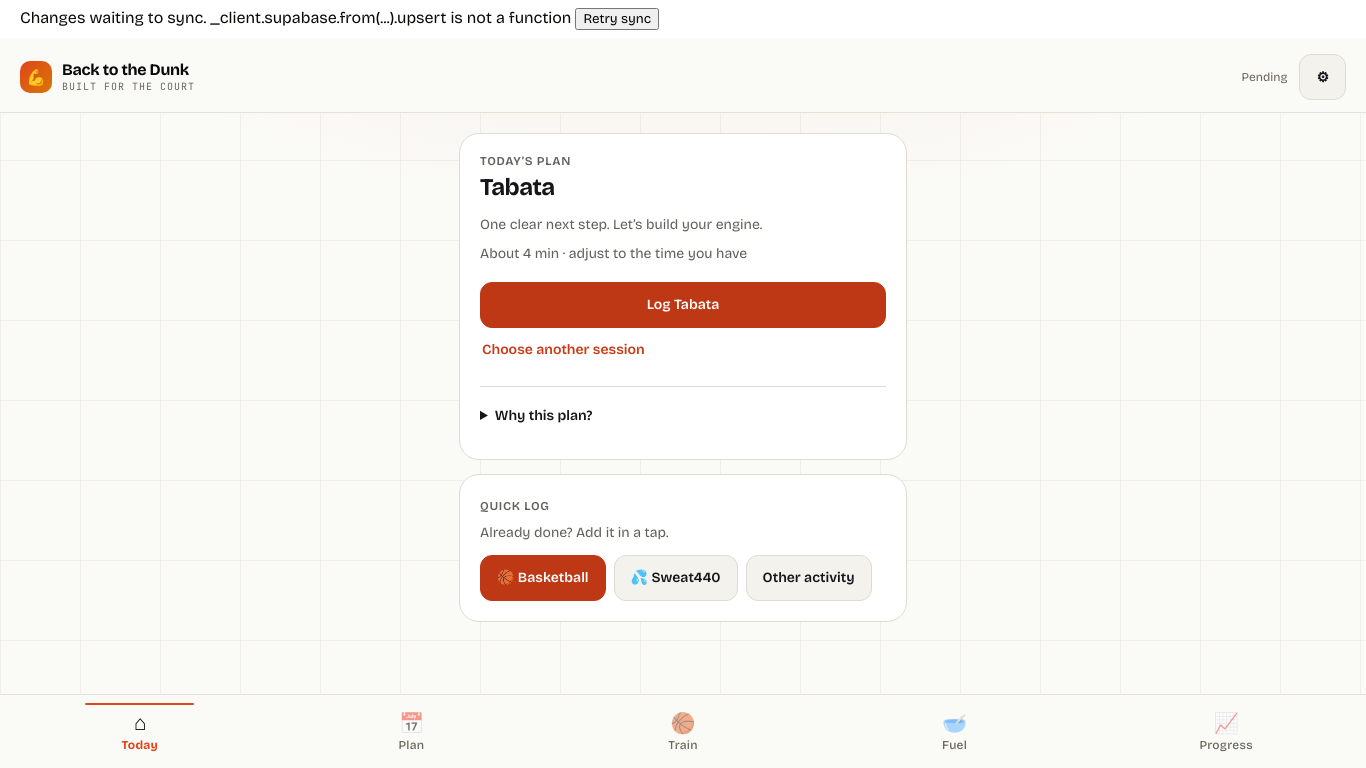
a failed delete keeps the weight entry visible and displays the error
This screenshot has width=1366, height=768.
Click the button "📈 Progress" at (1226, 732), box [1090,703,1362,760]
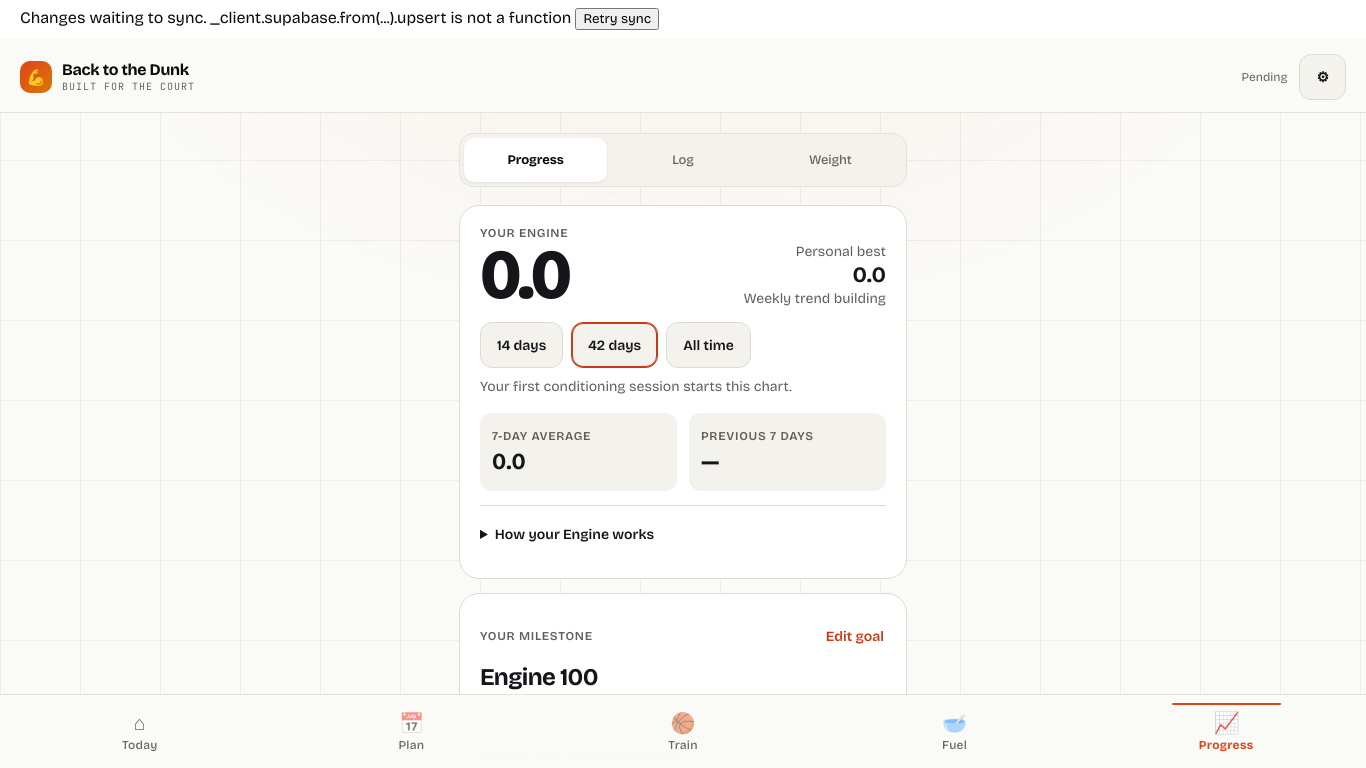
Expected: the button "Weight" is shown
Click the button "Weight" at (830, 160), box [759,138,902,182]
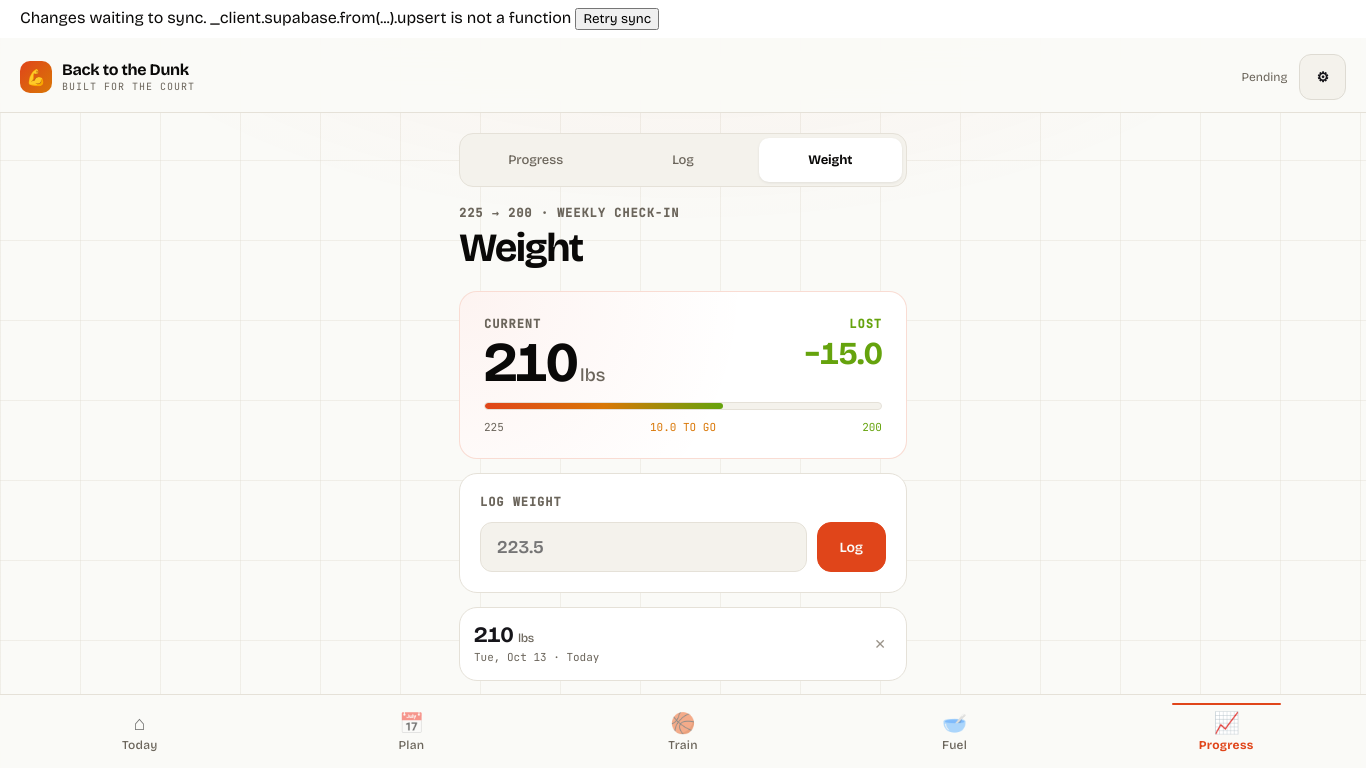
Click the button named "Delete weight entry" at (880, 644), box [868,622,892,666]
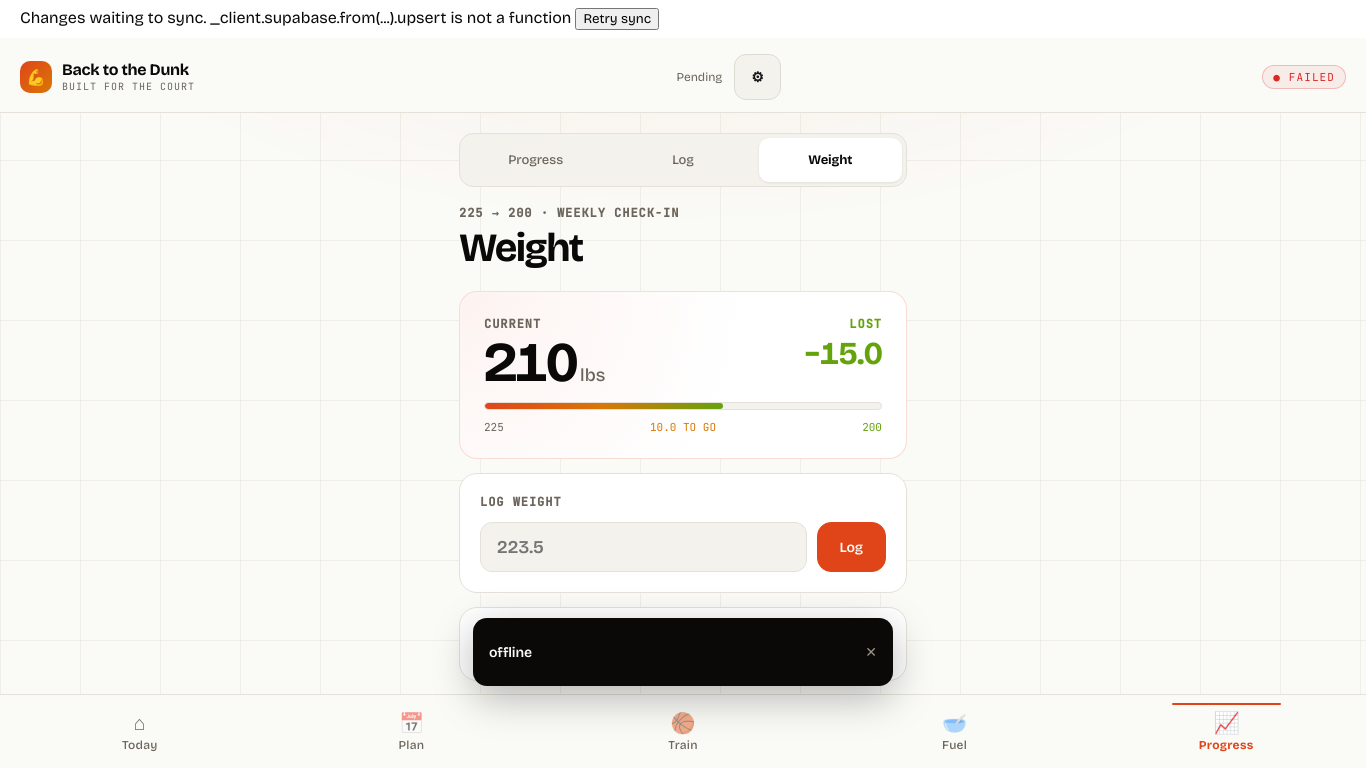
Expected: the button named "Delete weight entry" is shown, [868,622,892,666]
Expected: the text "offline" is shown, [489,644,532,660]
